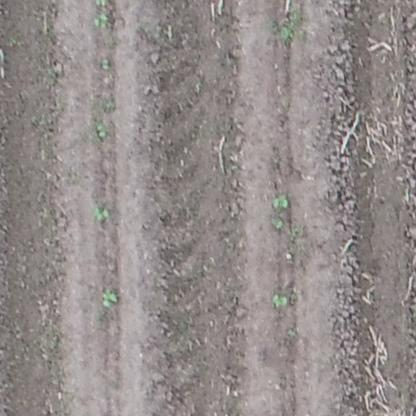vc: (99, 288, 119, 307), (270, 293, 292, 309), (92, 205, 110, 222), (91, 13, 110, 29), (272, 193, 289, 210), (94, 123, 108, 139), (270, 216, 285, 230), (100, 56, 111, 70)
